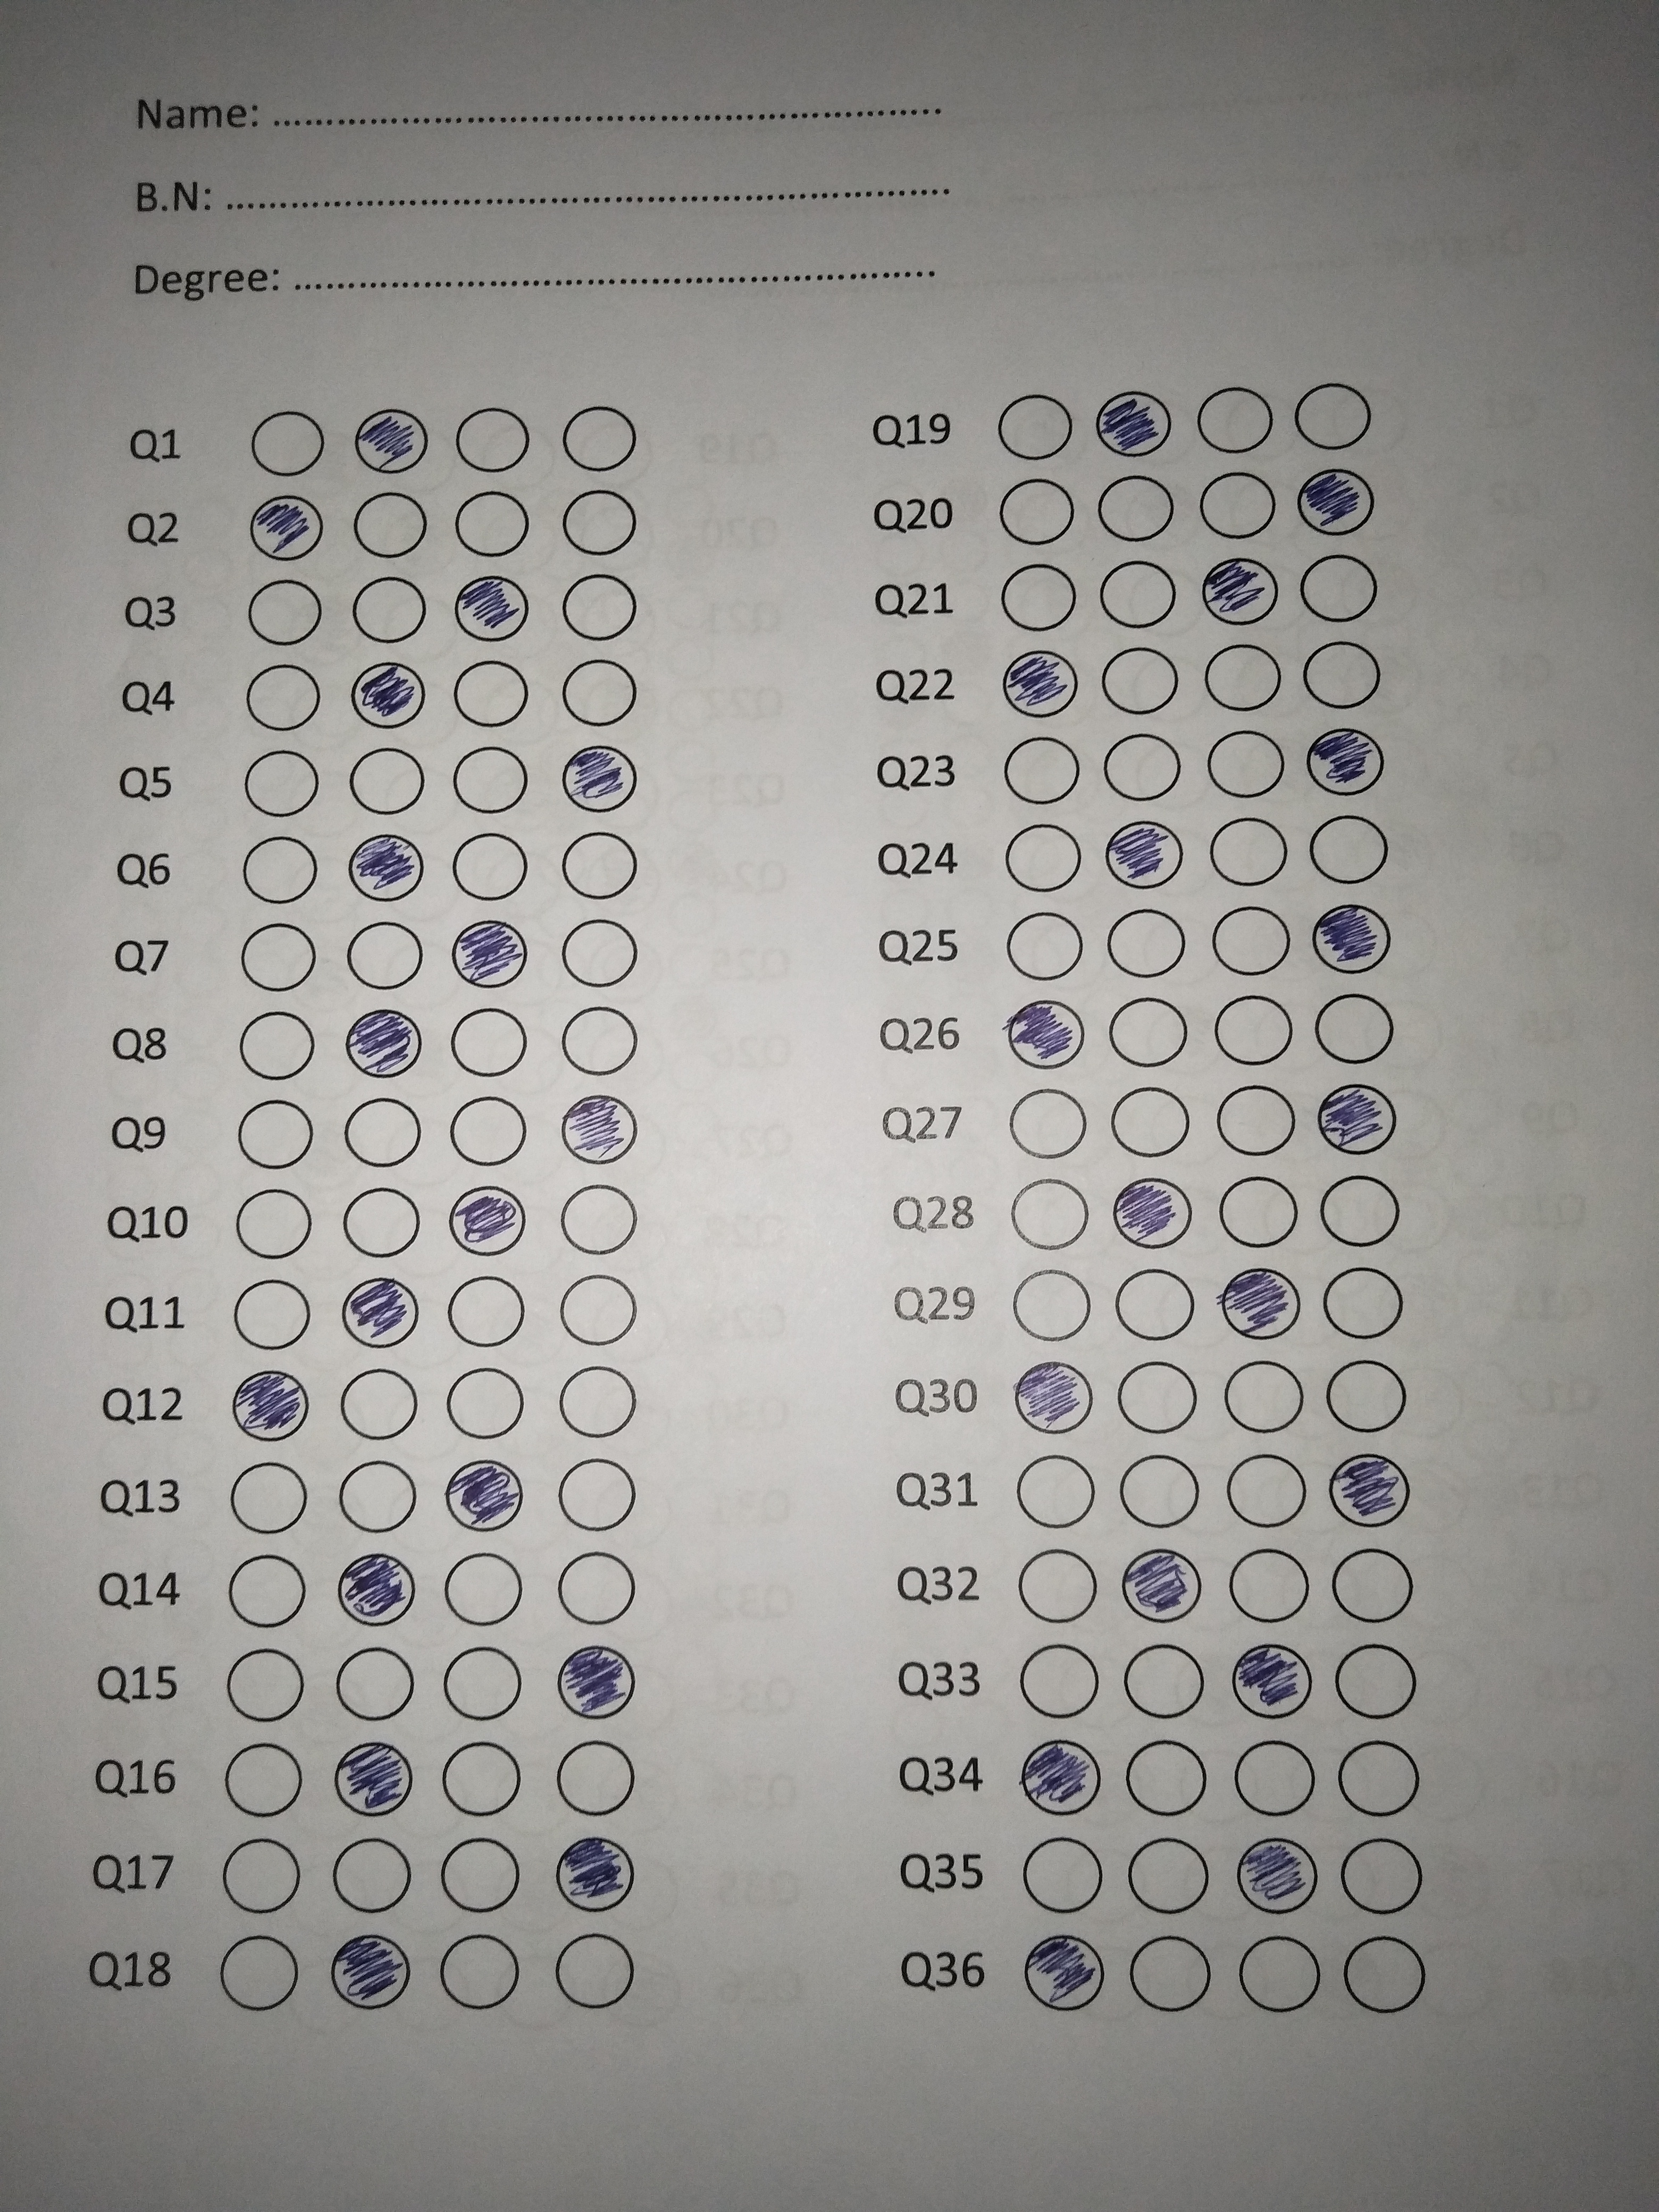not-c: (544, 1926, 653, 2026), (204, 1932, 314, 2022), (978, 380, 1086, 470), (1321, 1350, 1419, 1449), (1338, 1925, 1436, 2022), (1126, 1933, 1227, 2027), (1110, 1740, 1223, 1822), (1004, 1644, 1110, 1731), (214, 1456, 322, 1541), (207, 1838, 312, 1925), (1236, 1925, 1323, 2029), (1204, 718, 1298, 813), (1335, 1733, 1427, 1831), (213, 1742, 322, 1824), (551, 1000, 657, 1083), (432, 1735, 528, 1827), (1117, 1634, 1209, 1730), (1007, 1545, 1117, 1625), (552, 1548, 648, 1639), (1331, 1639, 1429, 1728), (216, 1277, 324, 1357), (1220, 1451, 1319, 1538), (1004, 1451, 1105, 1536), (1333, 1836, 1434, 1921), (1009, 1831, 1107, 1918), (207, 1554, 312, 1634), (1312, 1167, 1408, 1254), (1115, 1357, 1213, 1442), (1206, 1078, 1305, 1162), (331, 1366, 432, 1447), (331, 1642, 420, 1735), (552, 1738, 647, 1825), (1002, 1177, 1101, 1259), (1326, 1547, 1425, 1629), (225, 1097, 326, 1177), (225, 920, 333, 995), (995, 911, 1098, 989), (1000, 1264, 1103, 1343), (437, 1930, 526, 2020), (1303, 808, 1392, 899), (558, 1172, 645, 1264), (220, 1646, 312, 1733), (1187, 376, 1279, 463), (1309, 991, 1405, 1075), (235, 573, 333, 655), (432, 1275, 538, 1350), (1295, 552, 1394, 632), (225, 1008, 326, 1087), (554, 1266, 645, 1353), (1216, 1172, 1303, 1263), (1117, 1453, 1208, 1540), (1232, 1731, 1323, 1818), (1124, 1834, 1215, 1921), (1096, 644, 1197, 721), (441, 1641, 528, 1730), (1107, 1083, 1195, 1170), (556, 1364, 647, 1449), (1208, 899, 1298, 984), (997, 732, 1089, 815), (1222, 1545, 1314, 1629), (336, 1458, 423, 1545), (340, 1179, 425, 1268), (328, 1832, 420, 1914), (1218, 1359, 1310, 1440), (999, 819, 1093, 899), (1002, 1082, 1093, 1163), (1115, 1259, 1197, 1350), (443, 1096, 535, 1176), (1208, 991, 1300, 1071), (1321, 1263, 1413, 1343), (554, 406, 650, 482), (228, 834, 326, 909), (1105, 993, 1192, 1076), (349, 489, 437, 571), (239, 406, 331, 484), (558, 657, 650, 735), (552, 914, 645, 993), (437, 1550, 532, 1627), (434, 1836, 528, 1912), (228, 1186, 324, 1261), (451, 406, 537, 489), (347, 742, 432, 826), (444, 1360, 530, 1444), (235, 749, 329, 824), (234, 664, 329, 737), (559, 827, 643, 911), (1100, 554, 1183, 636), (556, 1456, 643, 1534), (450, 833, 540, 907), (453, 742, 537, 822), (343, 914, 423, 998), (1096, 470, 1183, 547), (1100, 732, 1192, 803), (451, 651, 535, 730), (342, 1097, 427, 1174), (1288, 378, 1377, 451), (992, 475, 1080, 549), (1302, 639, 1385, 716), (1204, 813, 1291, 887), (997, 559, 1086, 631), (450, 1007, 530, 1085), (446, 489, 538, 557), (1201, 641, 1284, 716), (349, 575, 434, 648), (1105, 906, 1188, 979), (561, 489, 641, 564), (559, 571, 641, 644), (1199, 470, 1284, 540)
taken-c: (1234, 1836, 1321, 1916), (1232, 1641, 1317, 1721), (1019, 1738, 1105, 1818), (1021, 1933, 1107, 2013), (1122, 1543, 1204, 1625), (333, 1738, 416, 1818), (554, 1832, 638, 1912), (1012, 1359, 1096, 1439), (556, 1641, 638, 1721), (329, 1933, 415, 2010), (1220, 1264, 1303, 1341), (1330, 1451, 1413, 1527), (343, 1005, 425, 1082), (1316, 1082, 1398, 1158), (1114, 1177, 1197, 1252), (228, 1369, 310, 1444), (336, 1552, 418, 1627), (1105, 819, 1187, 894), (1295, 465, 1378, 538), (446, 1458, 525, 1534), (1201, 554, 1281, 629), (340, 1277, 422, 1350), (1310, 902, 1392, 975), (349, 658, 429, 732), (448, 1184, 528, 1258), (1305, 728, 1389, 798), (561, 740, 638, 815), (561, 1090, 638, 1165), (453, 571, 532, 644), (451, 916, 530, 989), (1007, 996, 1086, 1069), (345, 833, 425, 904), (1000, 648, 1080, 719), (1096, 388, 1175, 458), (354, 406, 430, 475), (247, 493, 326, 561)
